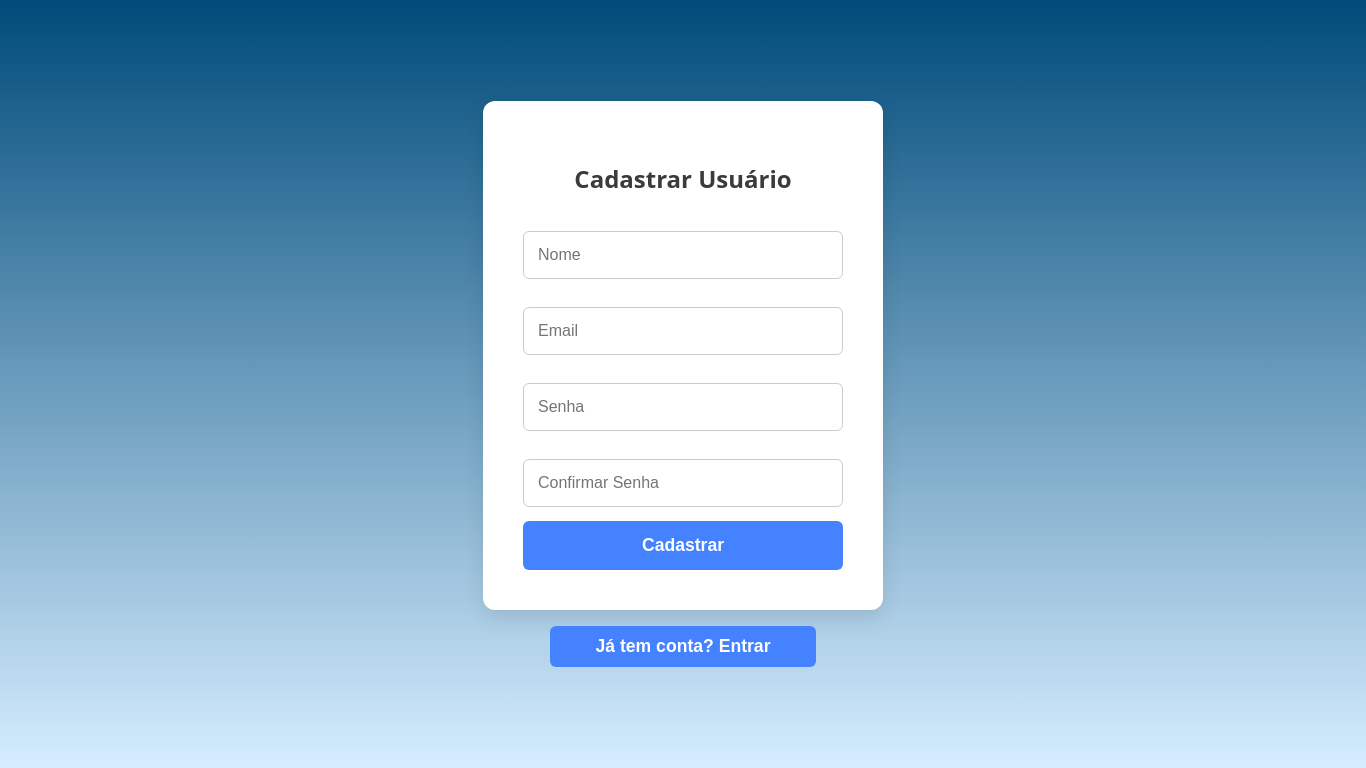
Scenario: SignupPage Component › displays error on failed signup
Type "John Doe" into the field with placeholder "Nome" at (683, 255), box [523,231,843,279]
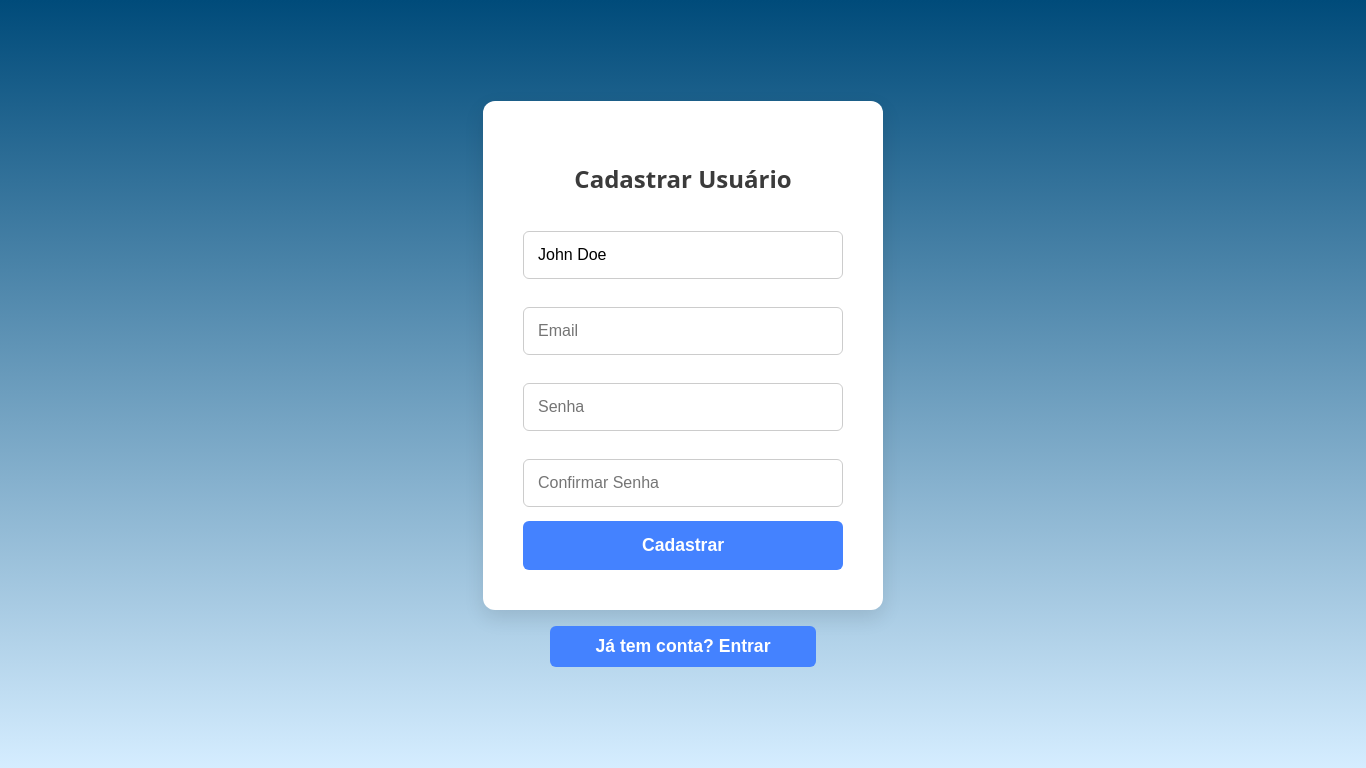
Type "existing@example.com" into the field with placeholder "Email" at (683, 331), box [523,307,843,355]
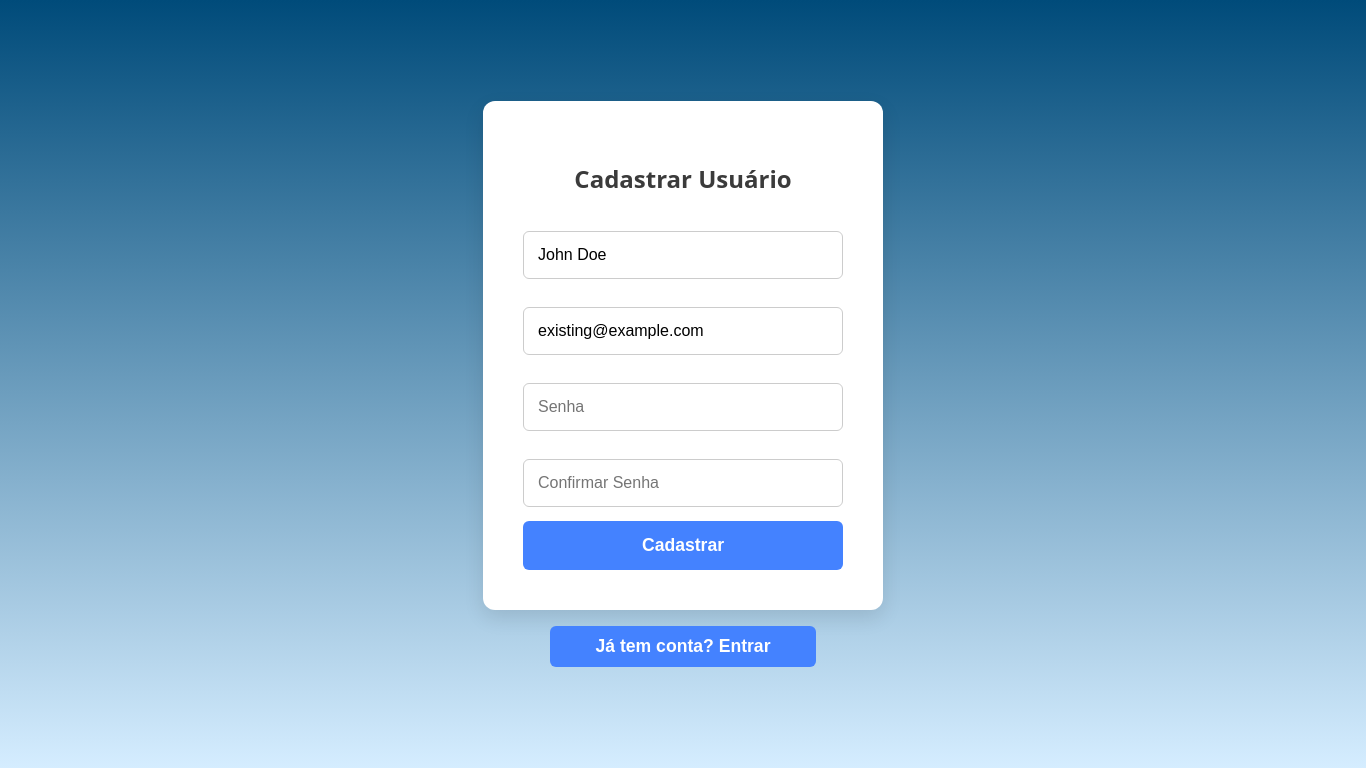
Type "password123" into the password field with placeholder "Senha" at (683, 407), box [523,383,843,431]
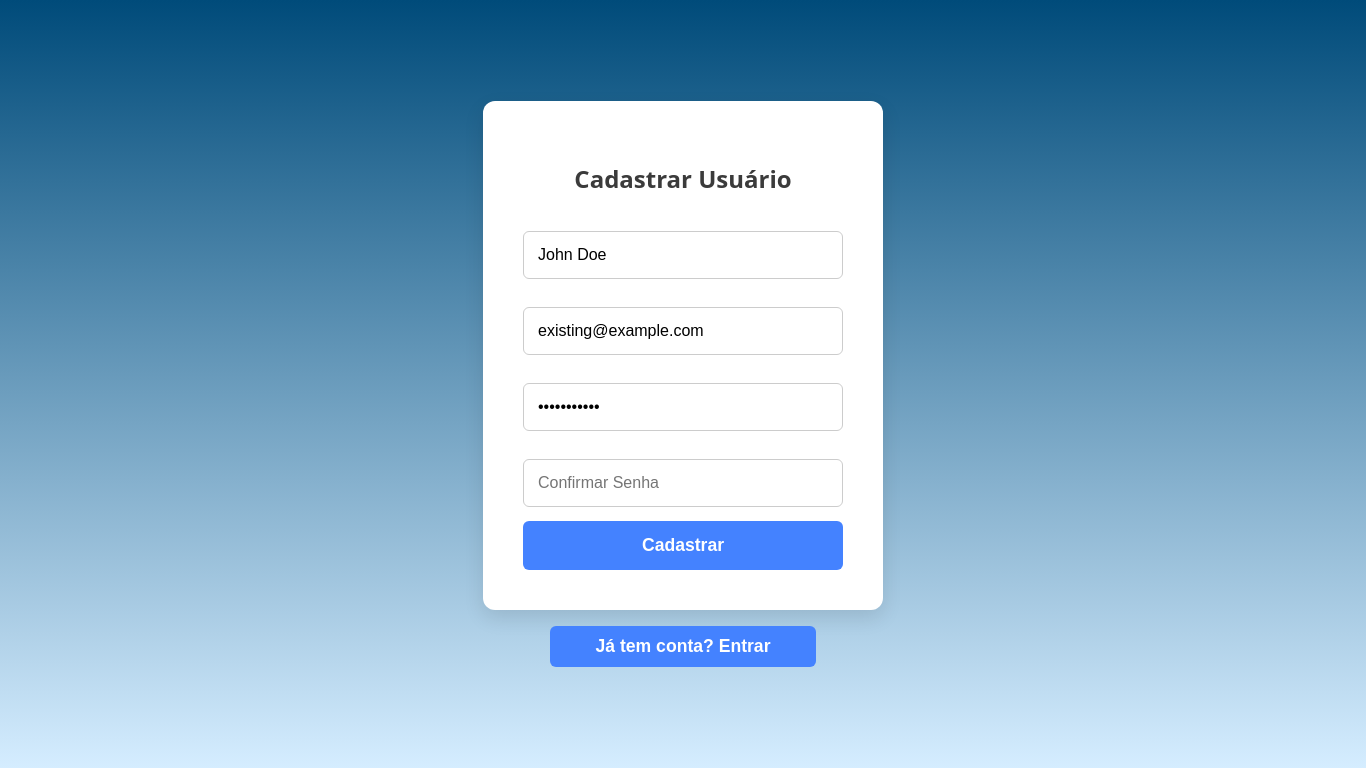
Type "password123" into the password field with placeholder "Confirmar Senha" at (683, 483), box [523,459,843,507]
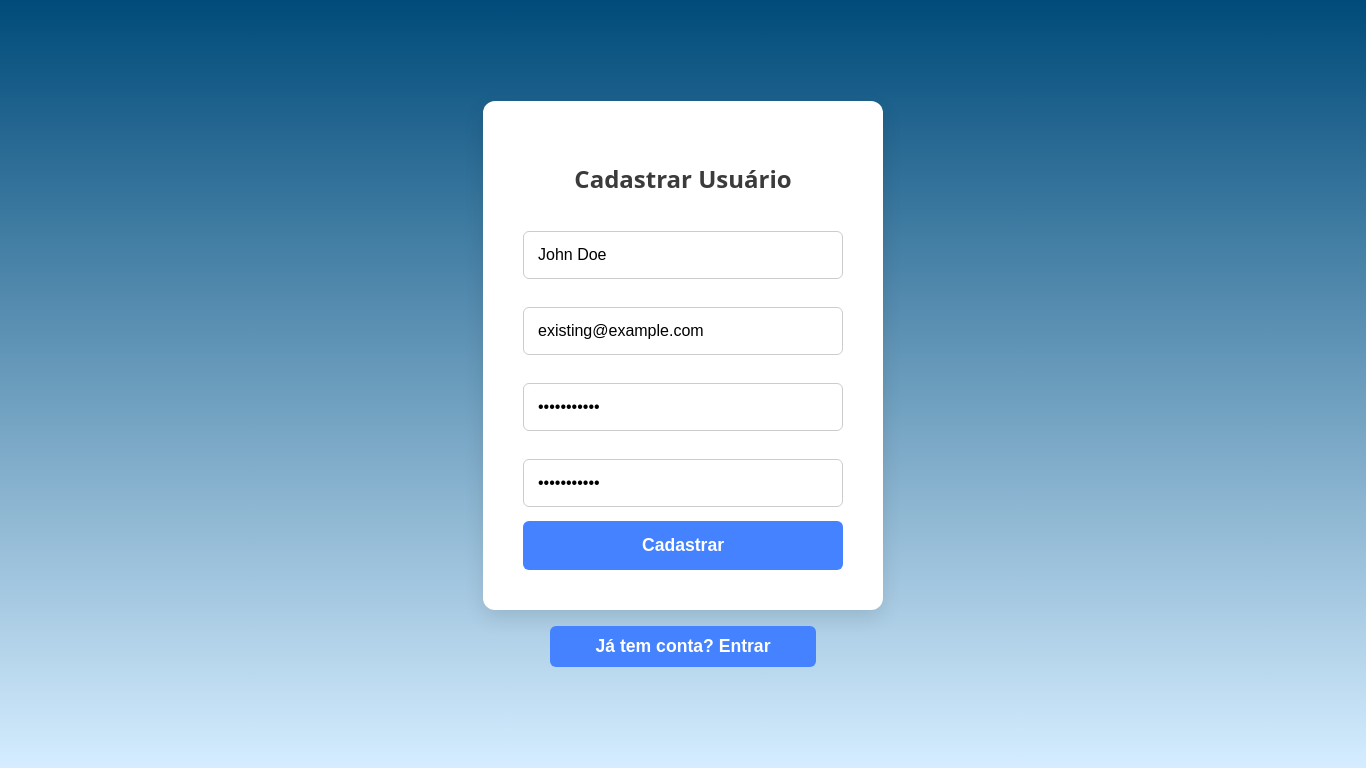
Click the button "Cadastrar" at (683, 545), box [523,521,843,570]
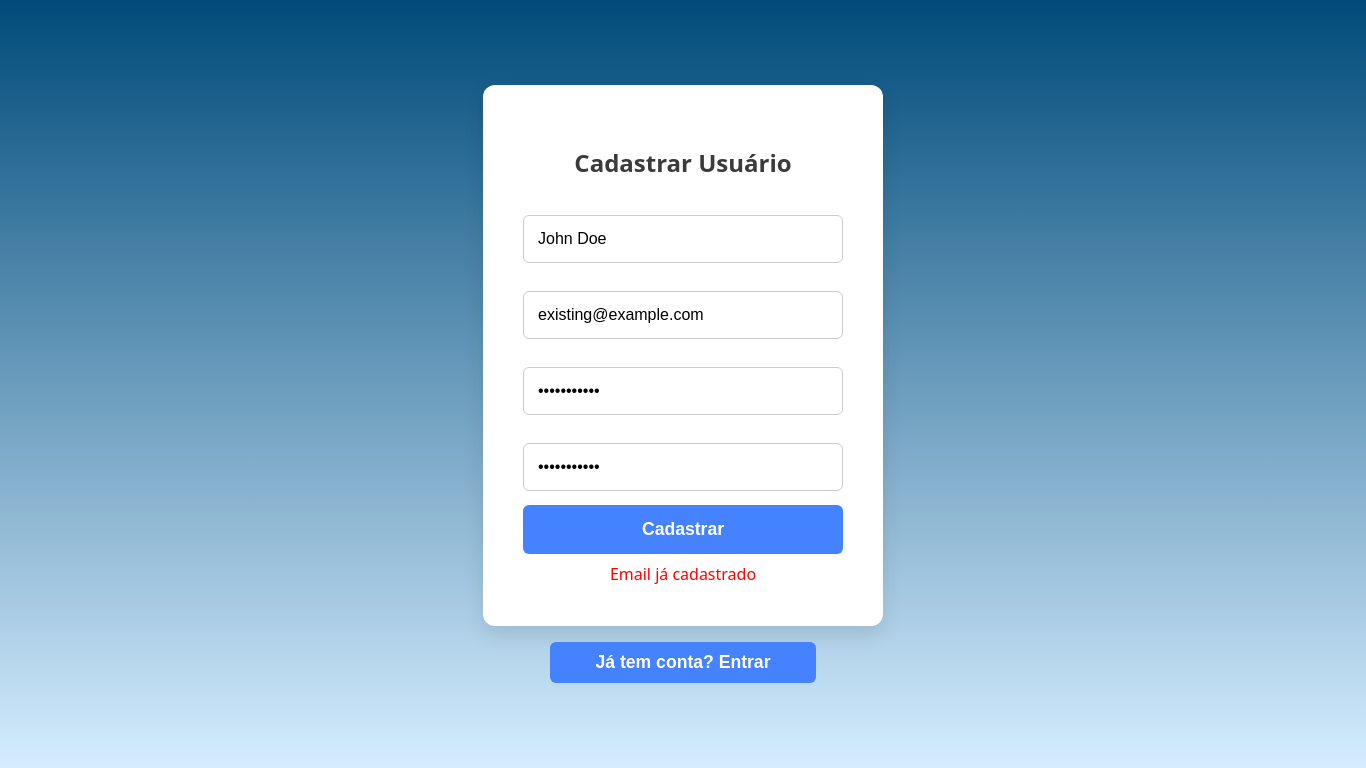
Check: the text "Email já cadastrado" is shown, box [610,563,756,585]
